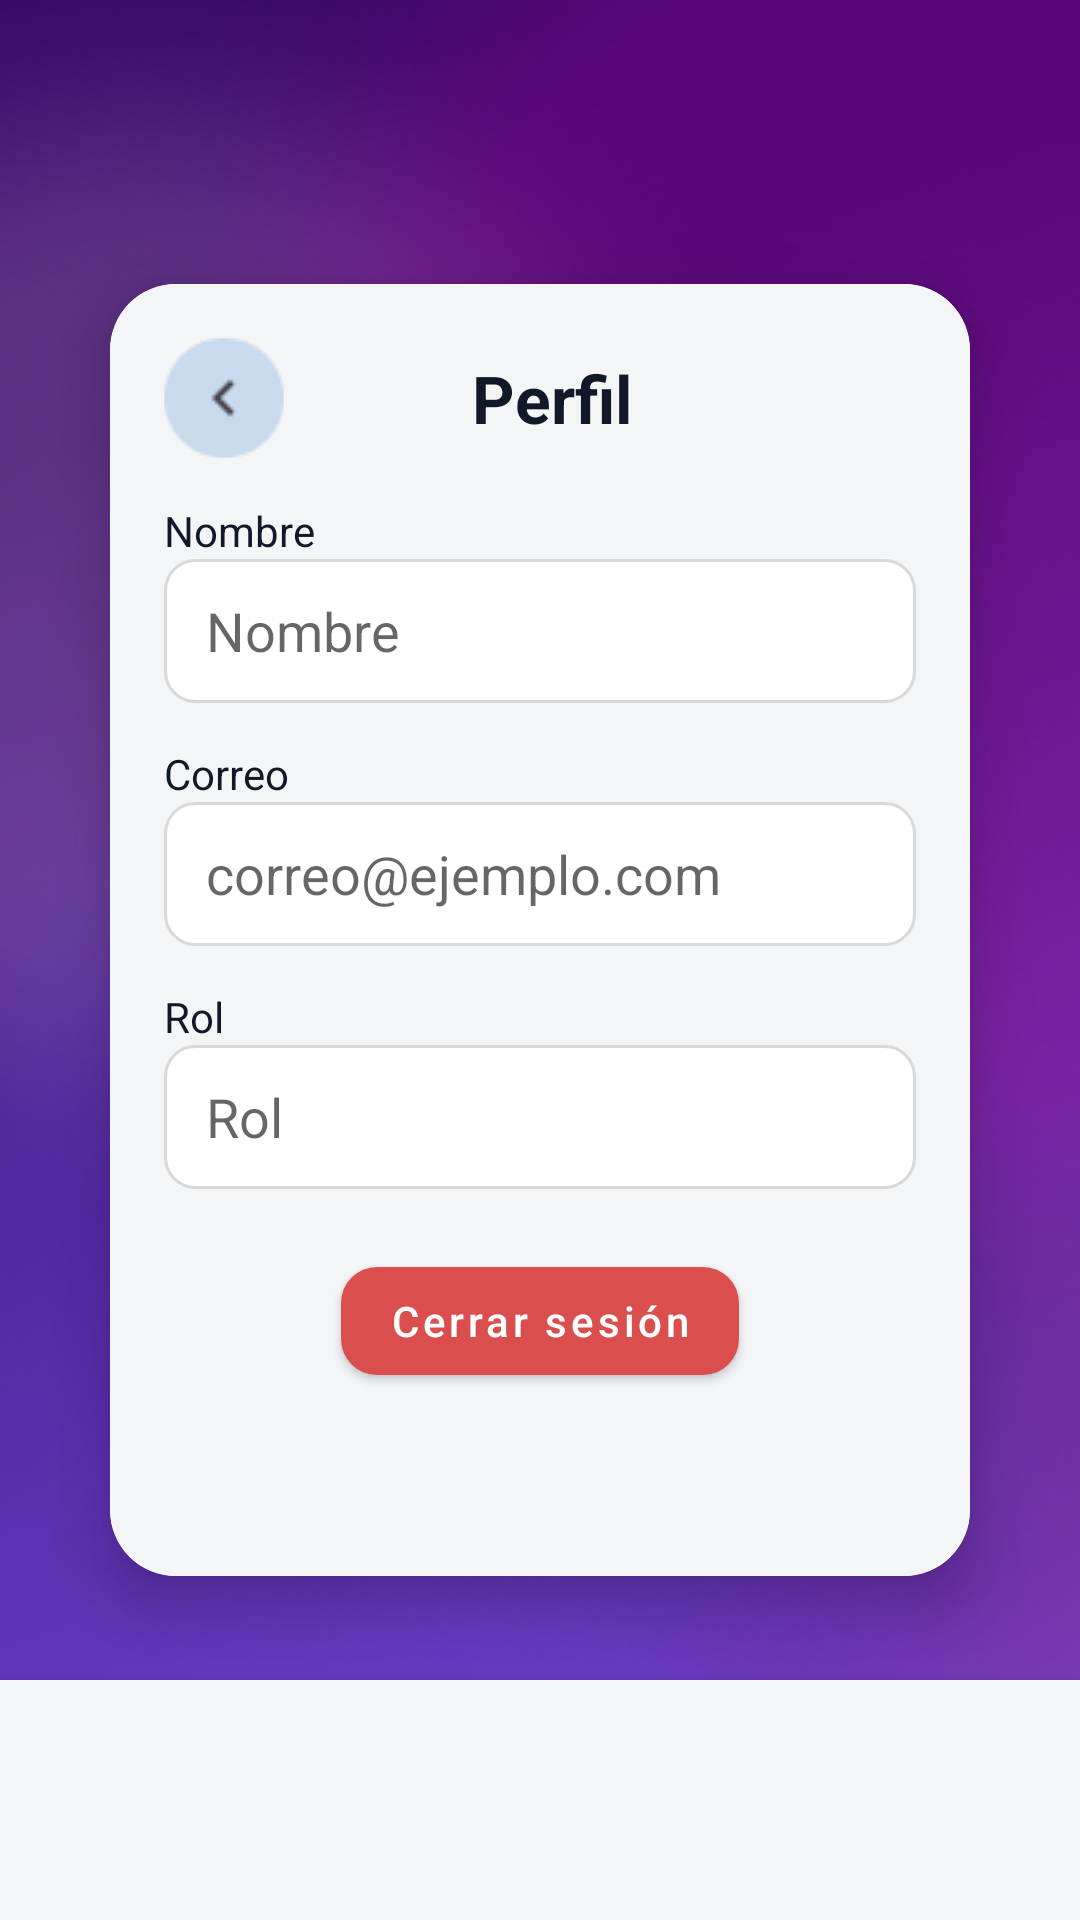

Icons on this 1080×1920 Android screen, each with its box as (x1, y1, x2, y2):
Volver: (164, 338, 284, 458)
